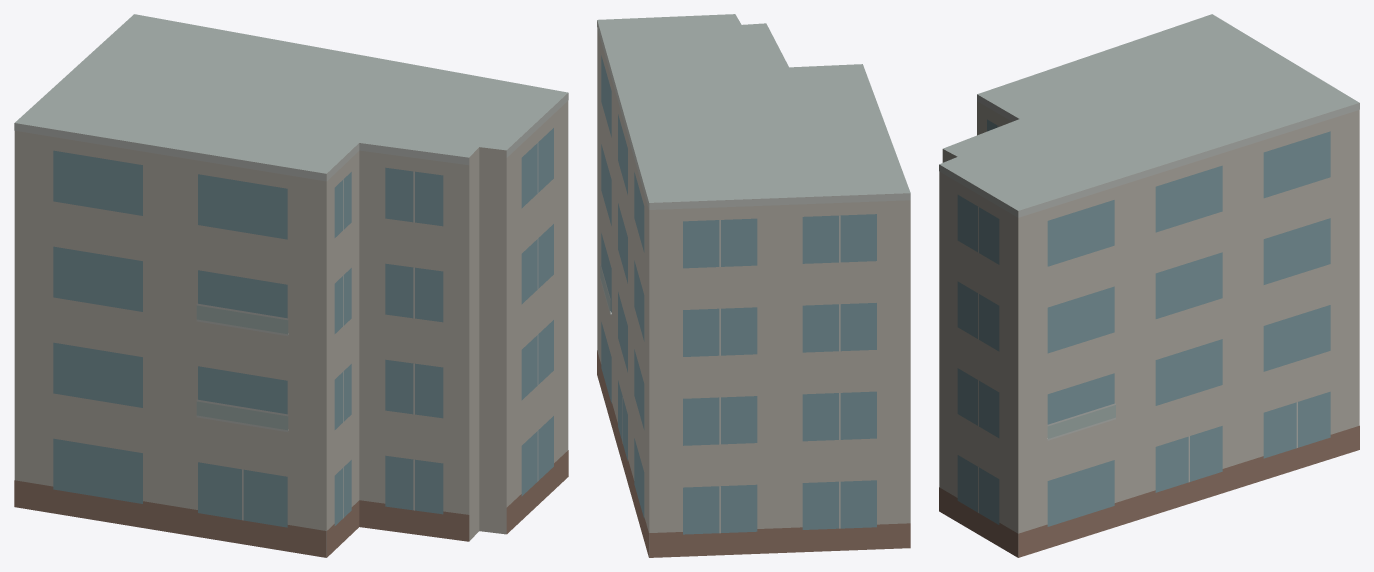
File: survey-upis-32787836.glb
3 views of the same model, side by side, from view 1: azimuth 30°, elevation 25°; view 2: azimuth 150°, elevation 25°; view 3: azimuth 270°, elevation 25° (orthographic). The views are drawn at different scales.
Visible parts, largest first — view 1: survey-upis-32787836.tmp; view 2: survey-upis-32787836.tmp; view 3: survey-upis-32787836.tmp.
Boxes of the visible parts, left/top/right/bottom form: survey-upis-32787836.tmp: left=14, top=14, right=568, bottom=557; survey-upis-32787836.tmp: left=597, top=14, right=910, bottom=557; survey-upis-32787836.tmp: left=939, top=14, right=1359, bottom=557.
Size of the model in its own units: 14.86 by 12.2 by 13.41.
